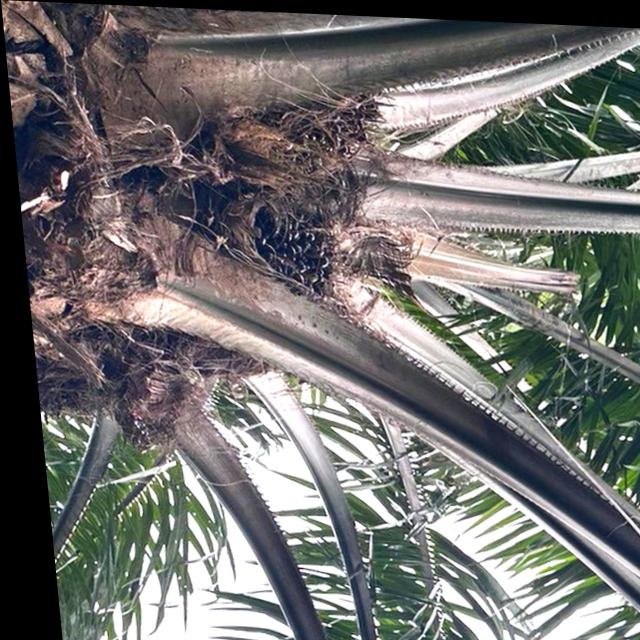unripe: (188, 58, 394, 197), (172, 179, 369, 320)
